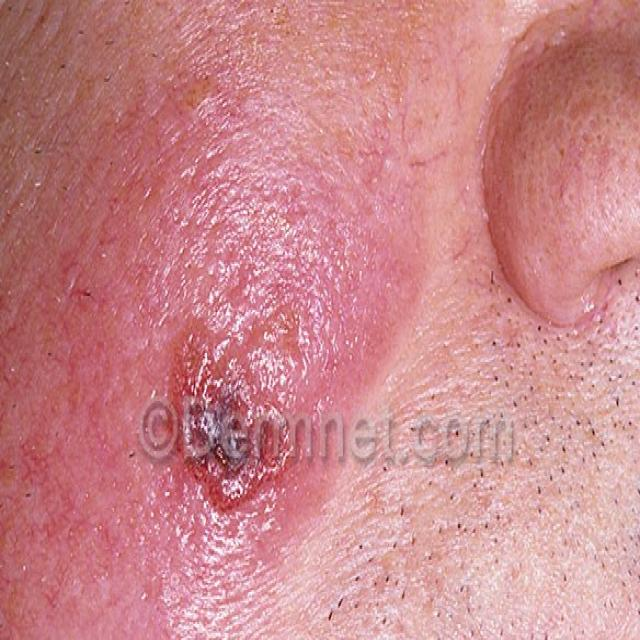Viral Infections: (120, 305, 322, 537)
